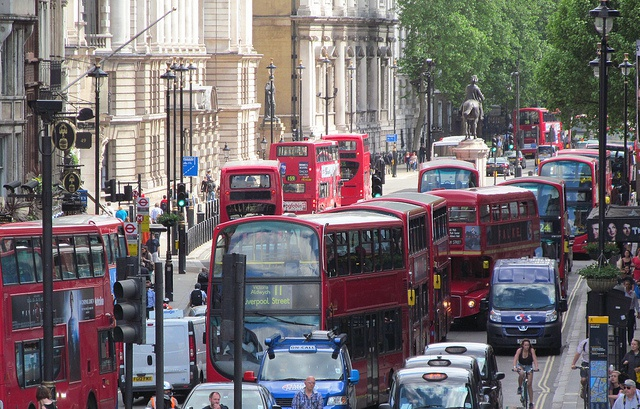non-vehicle: (511, 367, 539, 409), (575, 365, 589, 409)
